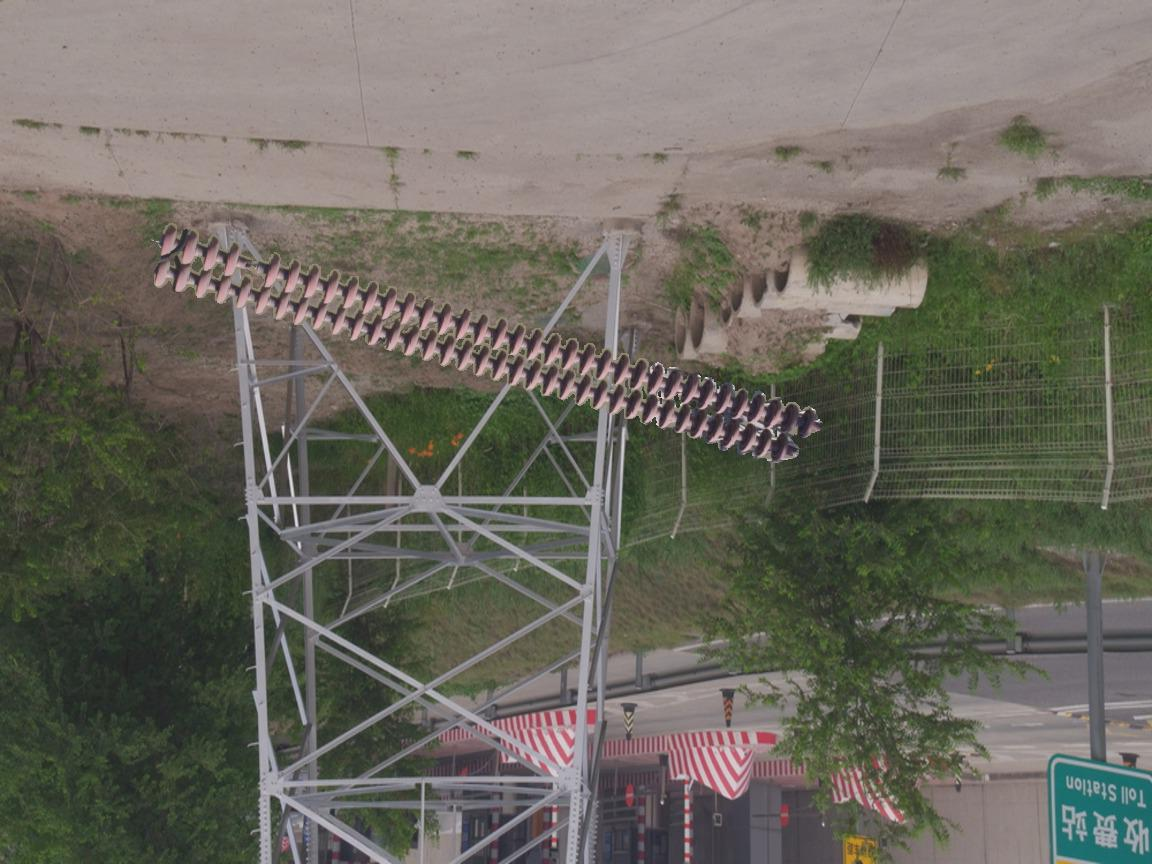insulator: (144, 218, 823, 468)
insulator_stringdrop: (219, 240, 284, 291)
